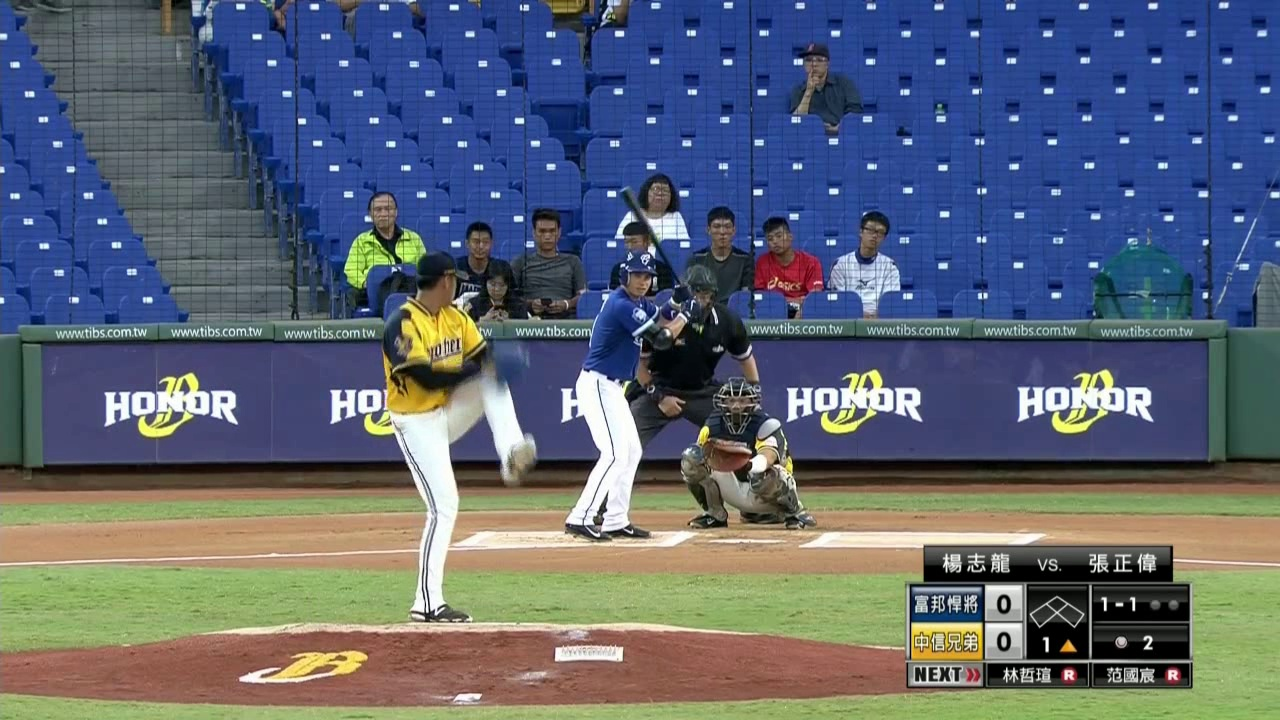base: (1028, 593, 1088, 629)
bat: (614, 182, 683, 287)
out: (1147, 598, 1182, 612)
score1: (985, 584, 1022, 620)
score2: (985, 623, 1022, 658)
session: (1038, 634, 1079, 654)
strikeball: (1098, 594, 1141, 613)
total: (1107, 630, 1161, 653)
